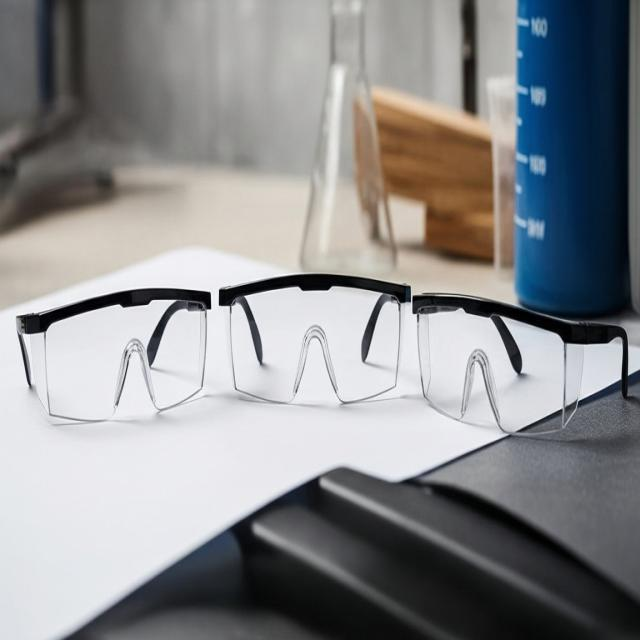oculos-epi: (413, 293, 629, 432), (16, 288, 210, 421), (219, 273, 410, 402)
